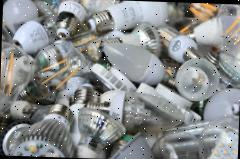lightbulb: (0, 0, 240, 159), (108, 91, 186, 137), (102, 42, 166, 86), (174, 56, 220, 102), (2, 0, 38, 35)
